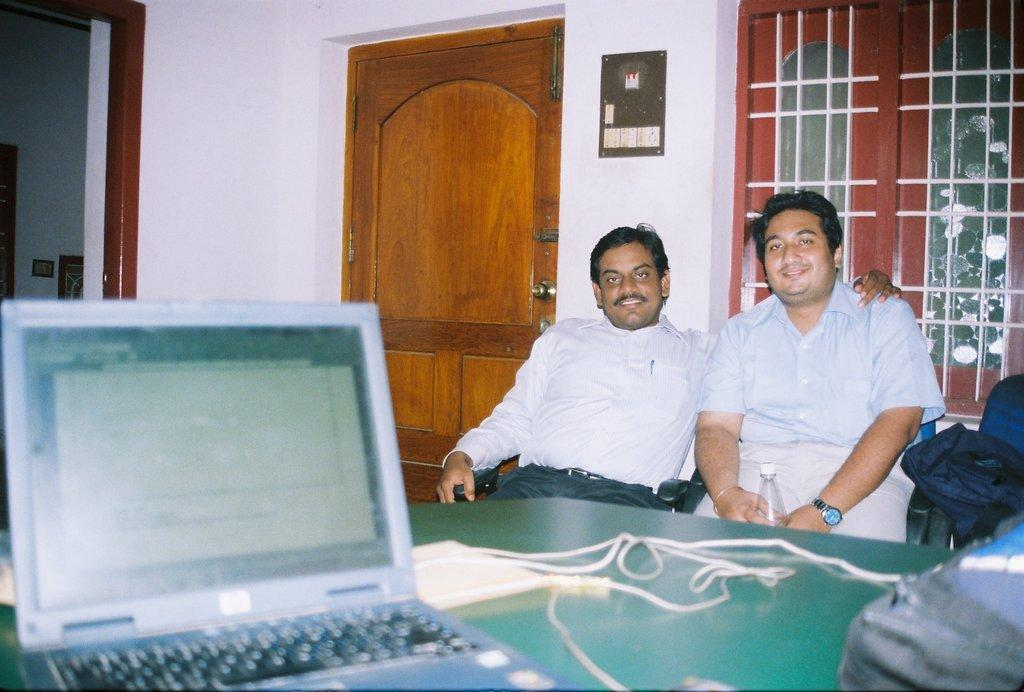Laptop: (0, 300, 554, 691)
